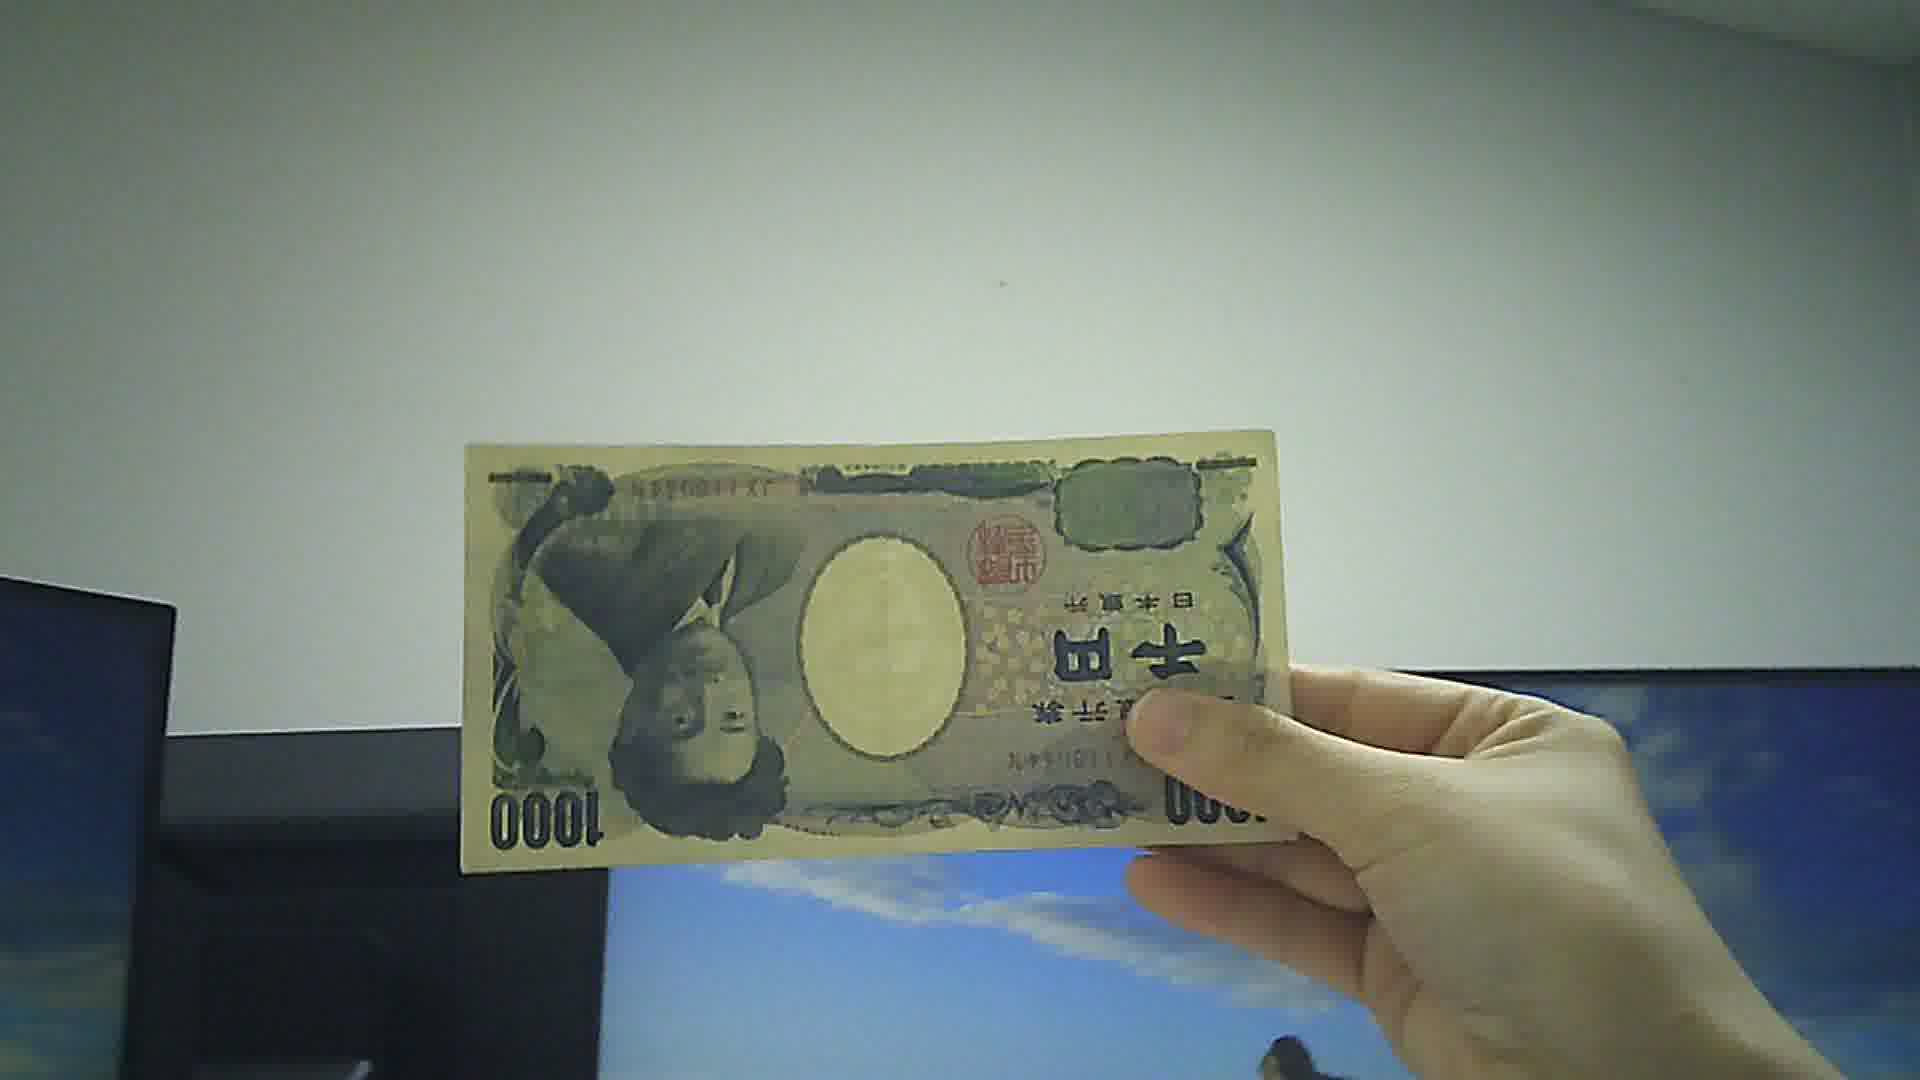1,000 Yen: (440, 425, 1294, 862)
